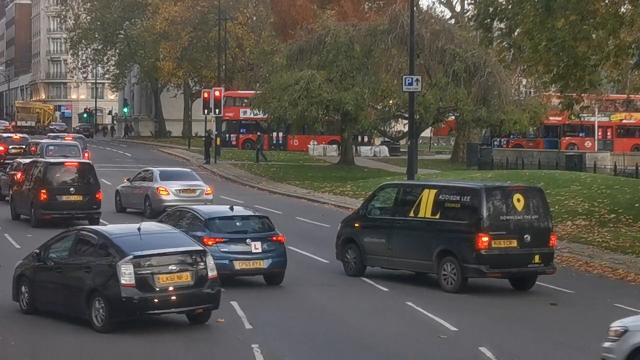car: (15, 226, 218, 331), (162, 205, 292, 284), (15, 161, 108, 226), (117, 166, 216, 218), (599, 311, 640, 360), (31, 140, 89, 163), (0, 133, 31, 166), (0, 158, 22, 198), (25, 139, 48, 157), (73, 124, 95, 139), (47, 123, 69, 134)
truck: (337, 179, 557, 294), (13, 94, 54, 133)
